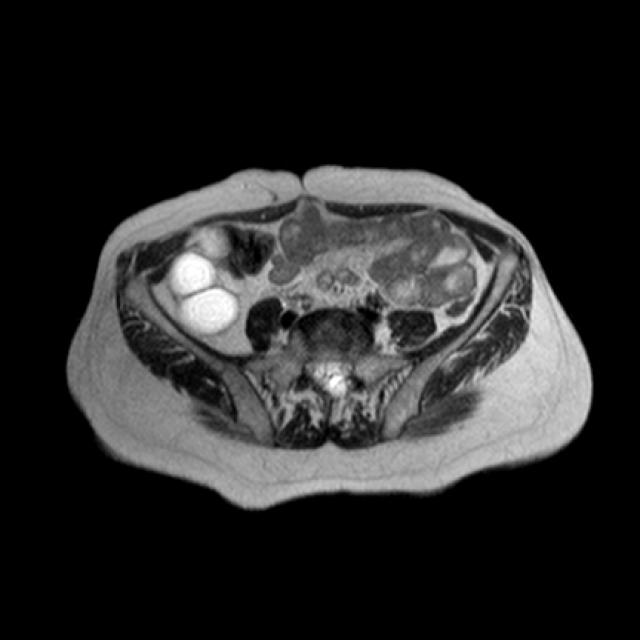sag: (166, 235, 241, 339)
